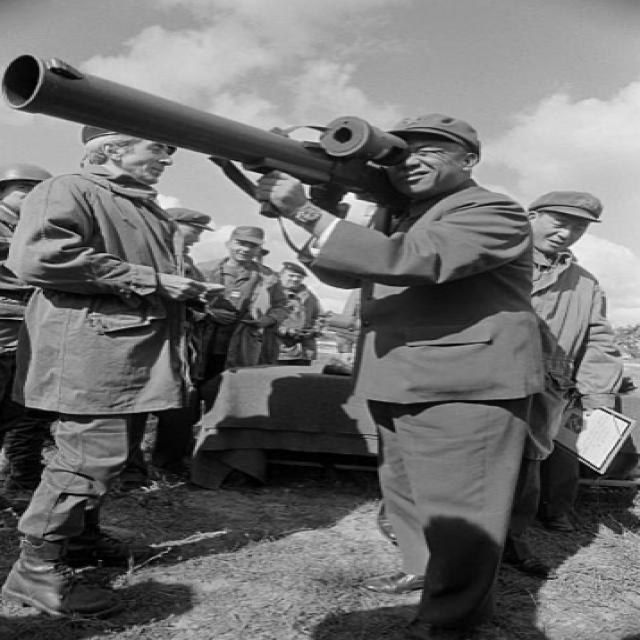bazooka: (1, 44, 406, 213)
